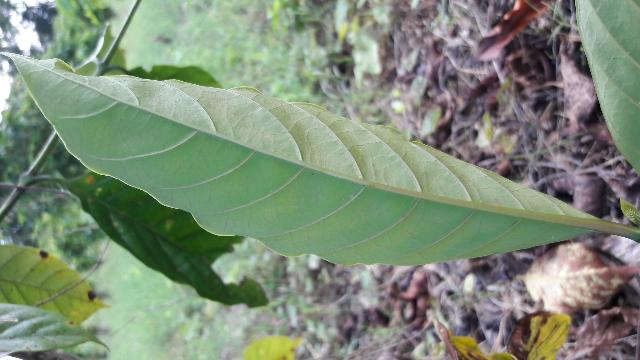healthy: (10, 49, 589, 266)
